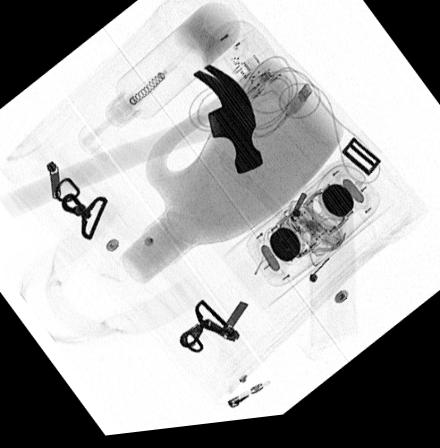Hammer: (0, 67, 263, 217)
